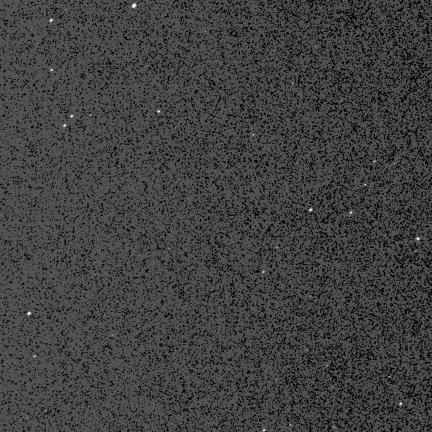blob: (50, 19, 54, 23), (132, 4, 136, 8), (310, 208, 313, 213), (400, 402, 403, 406), (417, 238, 421, 241), (27, 312, 31, 315), (51, 69, 54, 72), (157, 111, 160, 114), (71, 115, 74, 118), (63, 125, 67, 127), (351, 212, 353, 214)
